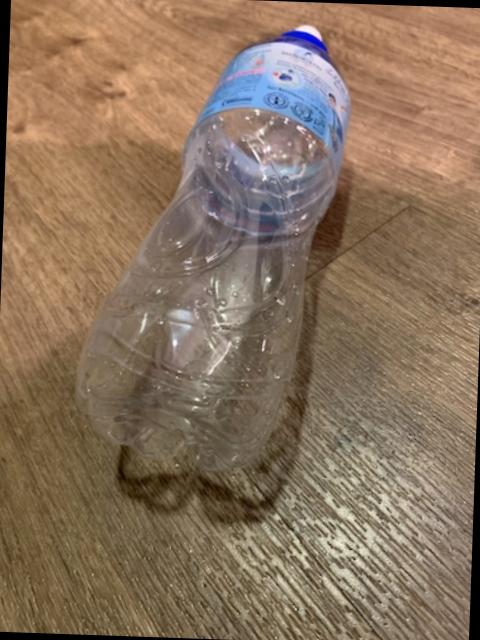plastic: (75, 25, 348, 468)
